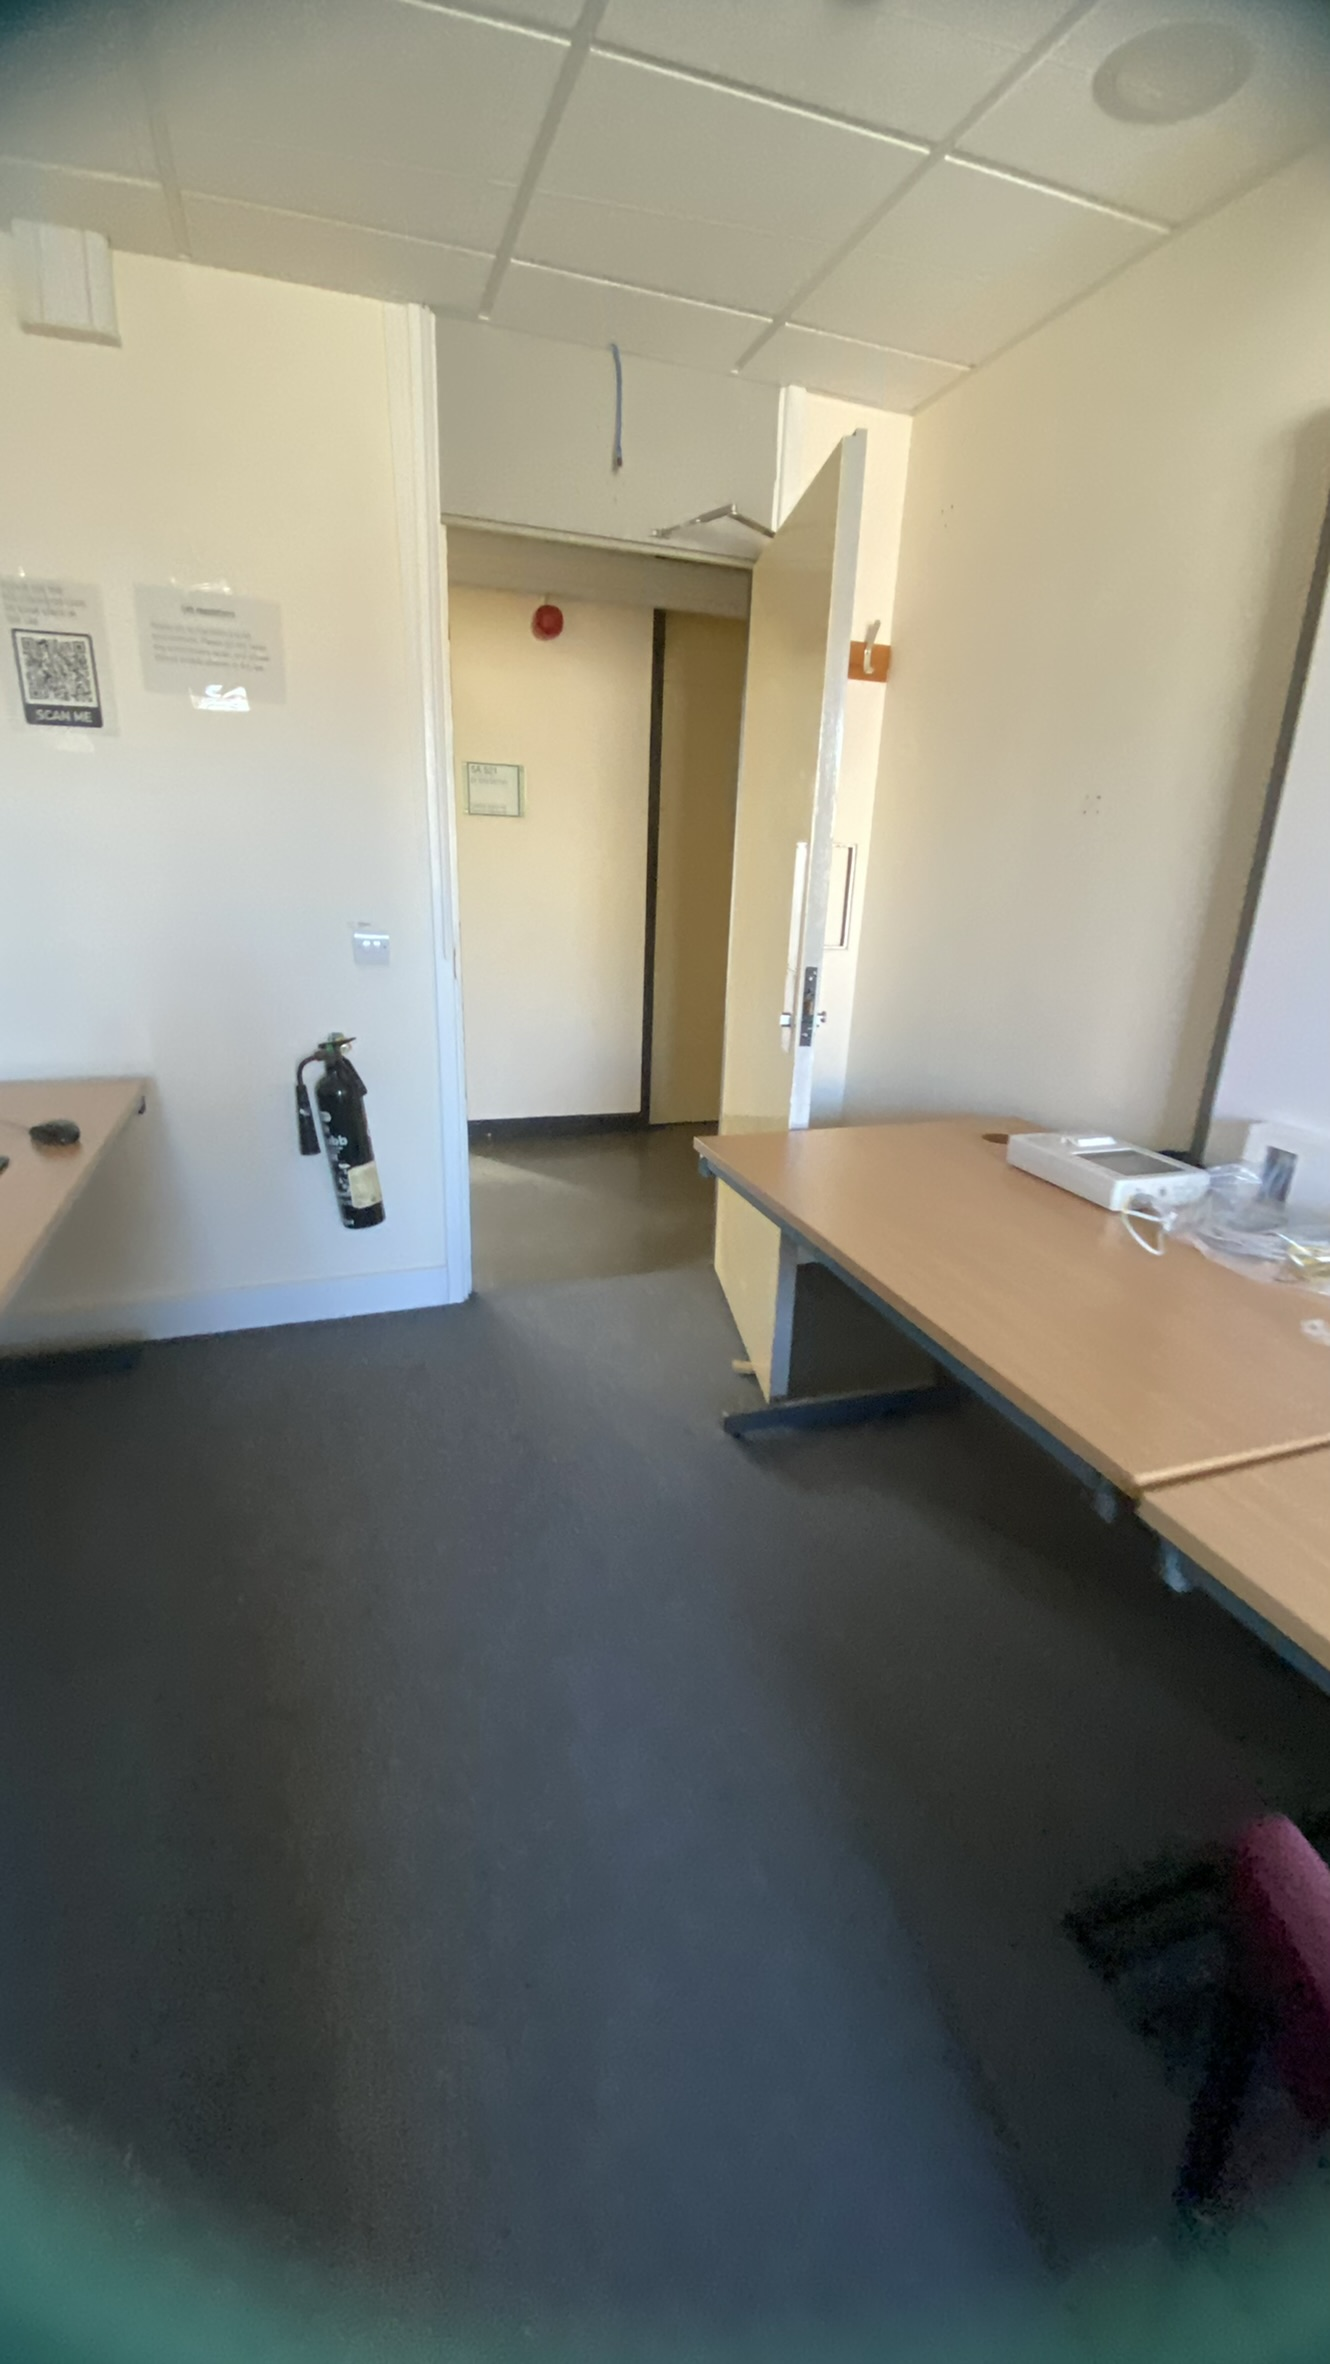table: (640, 1101, 1330, 1914)
